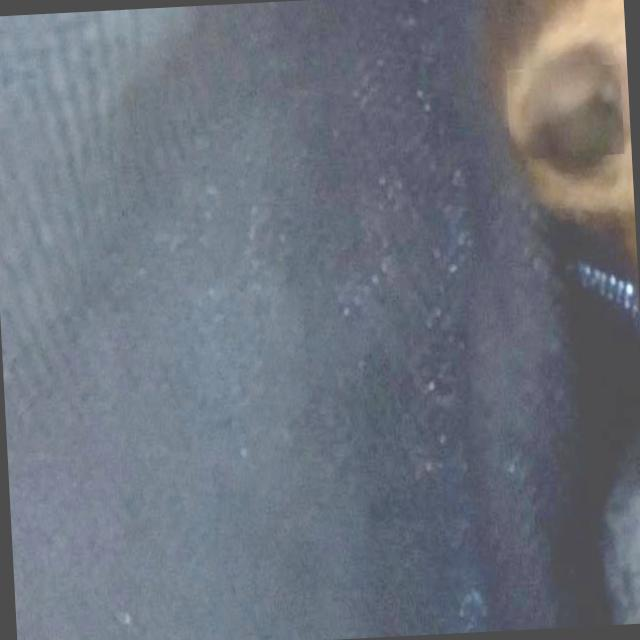fem: (508, 65, 624, 160)
